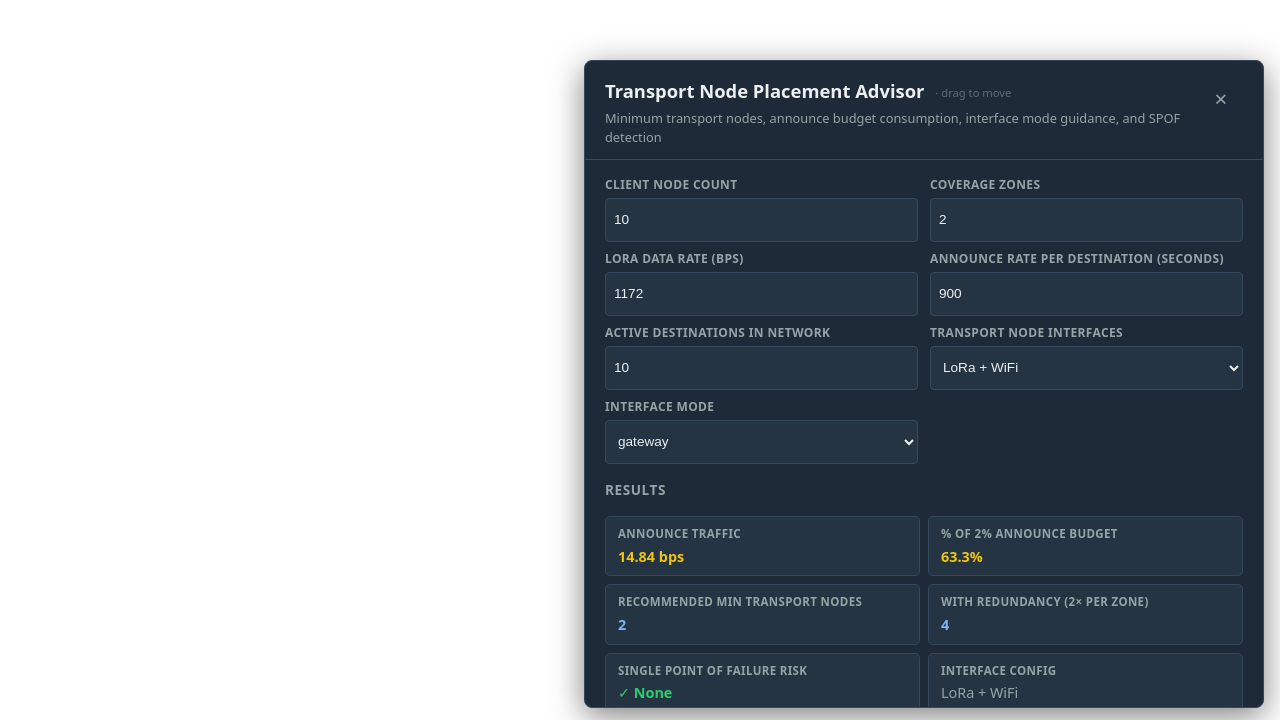
it: RNSTransportModal — interaction › changing interface mode updates the description shown
The image size is (1280, 720).
Select "access_point" in the dropdown labelled "Interface mode" at (762, 442), box left=605, top=420, right=918, bottom=464
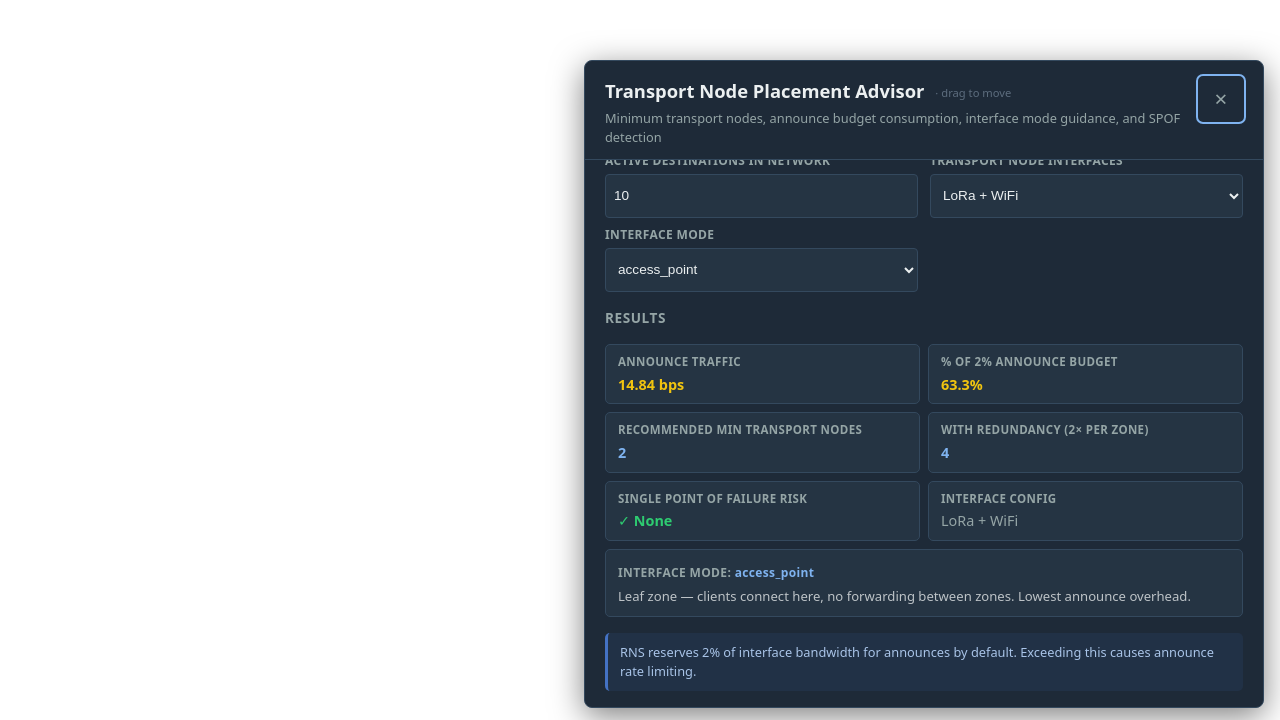
Now the text "Leaf zone" is shown, box left=618, top=587, right=1191, bottom=605
